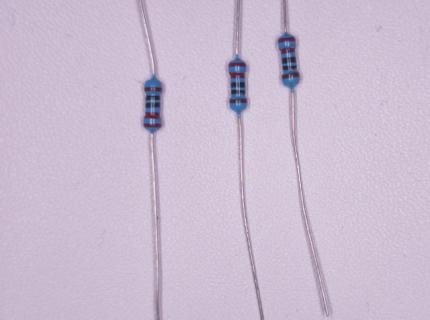Black band: (281, 56, 297, 64), (145, 102, 160, 108), (231, 82, 245, 88), (146, 95, 161, 100), (283, 65, 297, 70), (231, 90, 246, 94)
Brown band: (229, 98, 248, 104), (281, 73, 300, 79), (144, 87, 163, 92)
Red band: (145, 112, 160, 119), (280, 48, 295, 54), (278, 38, 295, 43), (230, 73, 245, 78), (229, 63, 246, 67), (144, 124, 162, 127)
